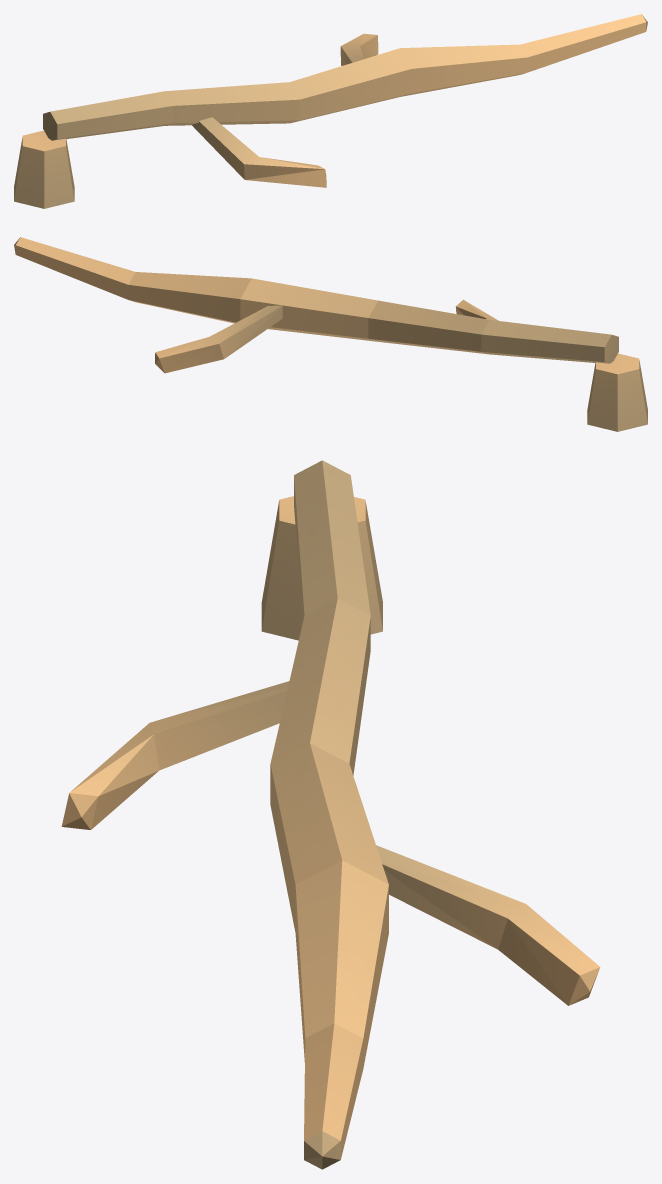
Rendered from Tree_3.fbx.
3 views of the same model, one above another, from view 1: azimuth 30°, elevation 25°; view 2: azimuth 150°, elevation 25°; view 3: azimuth 270°, elevation 25° (orthographic). The views are drawn at different scales.
Visible parts, largest first — view 1: polySurface38; view 2: polySurface38; view 3: polySurface38.
Part boxes in pixels (left/top/right/bottom): polySurface38: left=14, top=14, right=647, bottom=208; polySurface38: left=14, top=237, right=647, bottom=431; polySurface38: left=61, top=460, right=600, bottom=1169.
Bounding box in the file's own units: 5.36 × 0.6697 × 1.97.
Materials: 1 (1 with a texture image).
